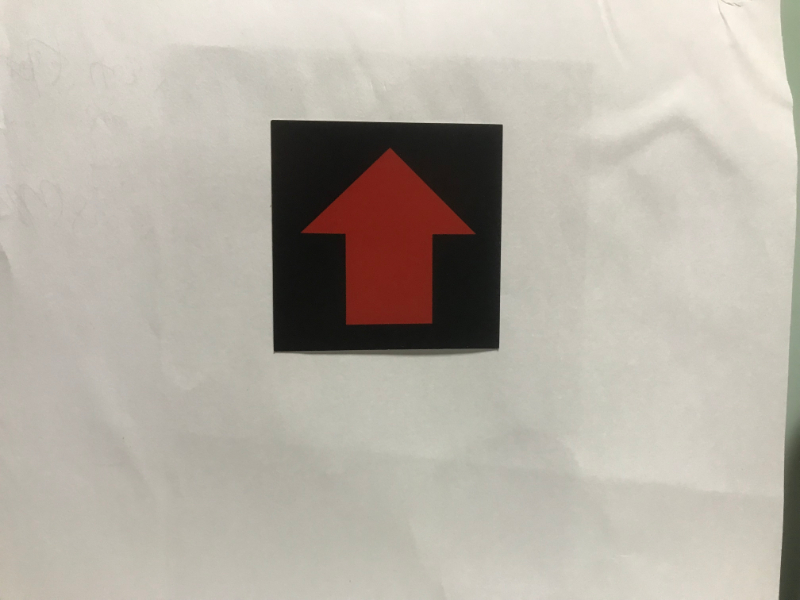DA-2: (278, 127, 493, 342)
